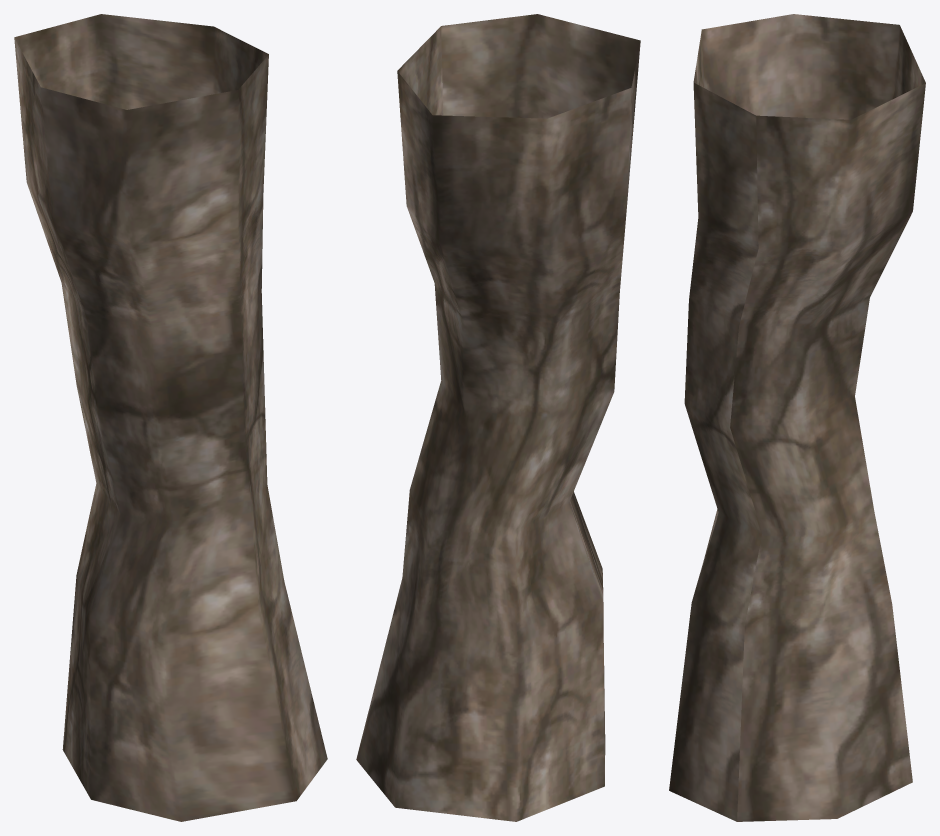
The model's file is EKH_GROTTO_PS_GR_CYLINDER16.fbx.
The picture shows the model from 3 angles, left to right: view 1: azimuth 30°, elevation 25°; view 2: azimuth 150°, elevation 25°; view 3: azimuth 270°, elevation 25°; orthographic projection. The views are drawn at different scales.
Visible parts, largest first — view 1: EKH_GROTTO_PS_GR_CYLINDER16; view 2: EKH_GROTTO_PS_GR_CYLINDER16; view 3: EKH_GROTTO_PS_GR_CYLINDER16.
Boxes of the visible parts, x1=… form: EKH_GROTTO_PS_GR_CYLINDER16: x1=14, y1=14, x2=327, y2=821; EKH_GROTTO_PS_GR_CYLINDER16: x1=356, y1=14, x2=640, y2=821; EKH_GROTTO_PS_GR_CYLINDER16: x1=669, y1=14, x2=925, y2=821.
Size of the model in its own units: 26016 by 69109 by 23341.
1 material, 1 textured.
